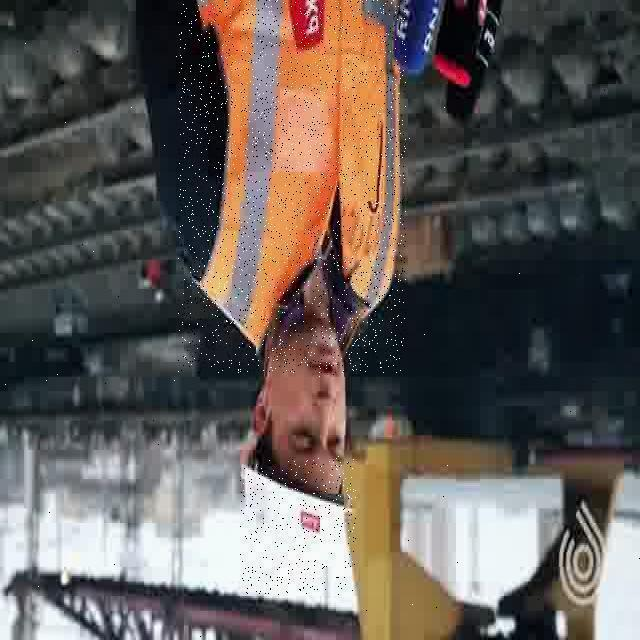Helmet: (240, 458, 356, 595)
Vest: (178, 0, 406, 373)
